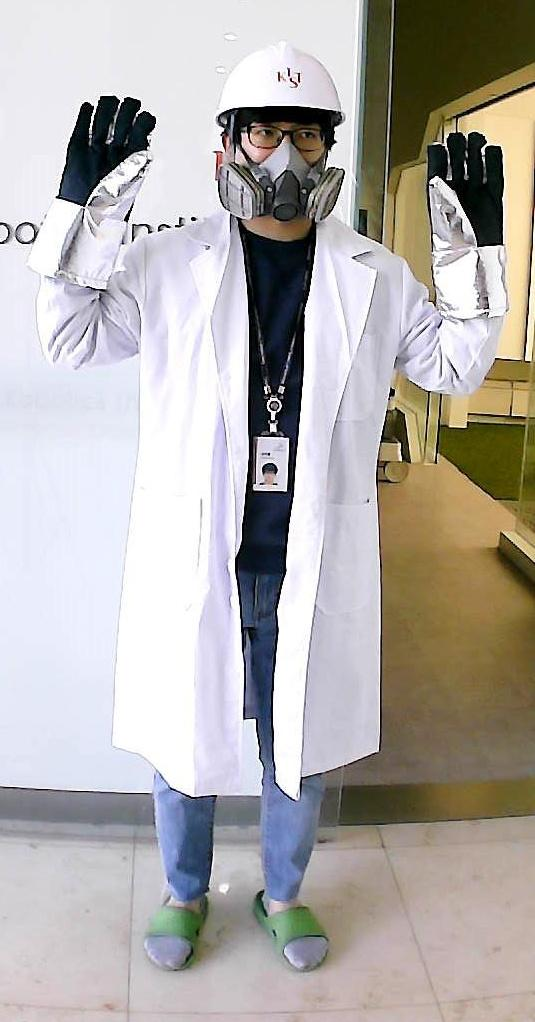lab_coat: (128, 268, 412, 757)
